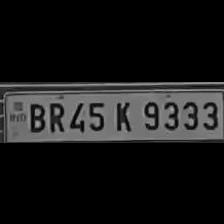3: (160, 96, 180, 130), (199, 96, 219, 130), (180, 97, 200, 128)
4: (66, 97, 86, 130)
5: (85, 97, 107, 130)
9: (138, 96, 160, 130)
B: (24, 98, 46, 132)
K: (109, 96, 134, 132)
R: (45, 98, 63, 132)
